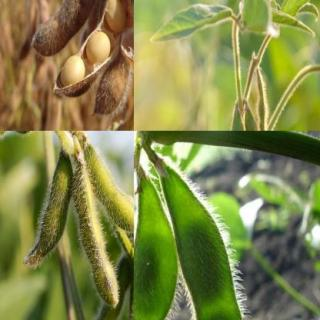soya: (159, 174, 249, 319), (72, 161, 121, 308), (134, 183, 177, 319), (22, 158, 73, 267), (32, 0, 116, 58), (83, 142, 133, 232), (81, 258, 131, 319), (92, 59, 131, 115), (245, 106, 283, 130), (122, 256, 133, 319), (257, 68, 268, 130)
